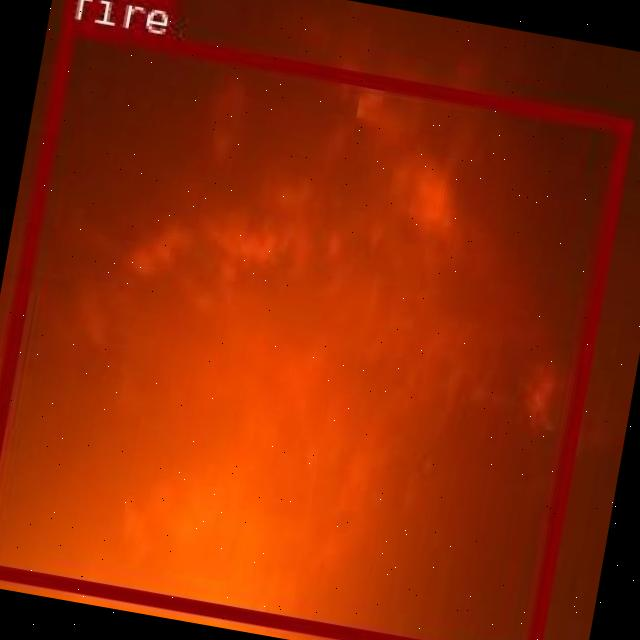fire: (0, 16, 631, 640)
